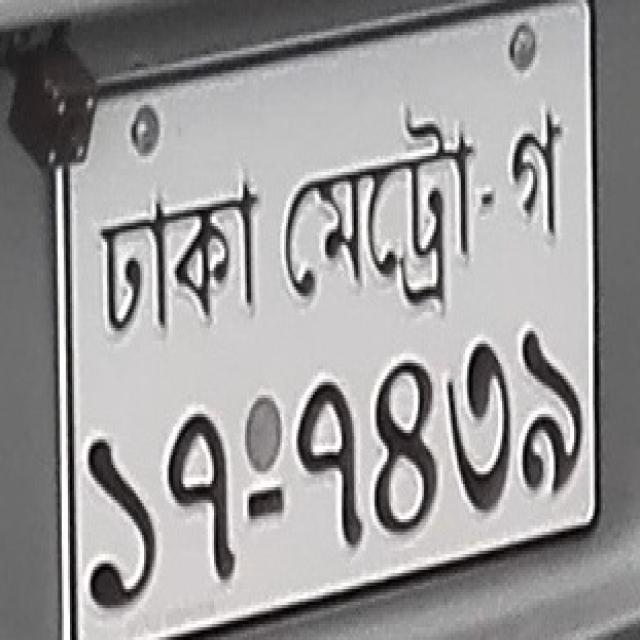numberplate: (22, 0, 612, 637)
